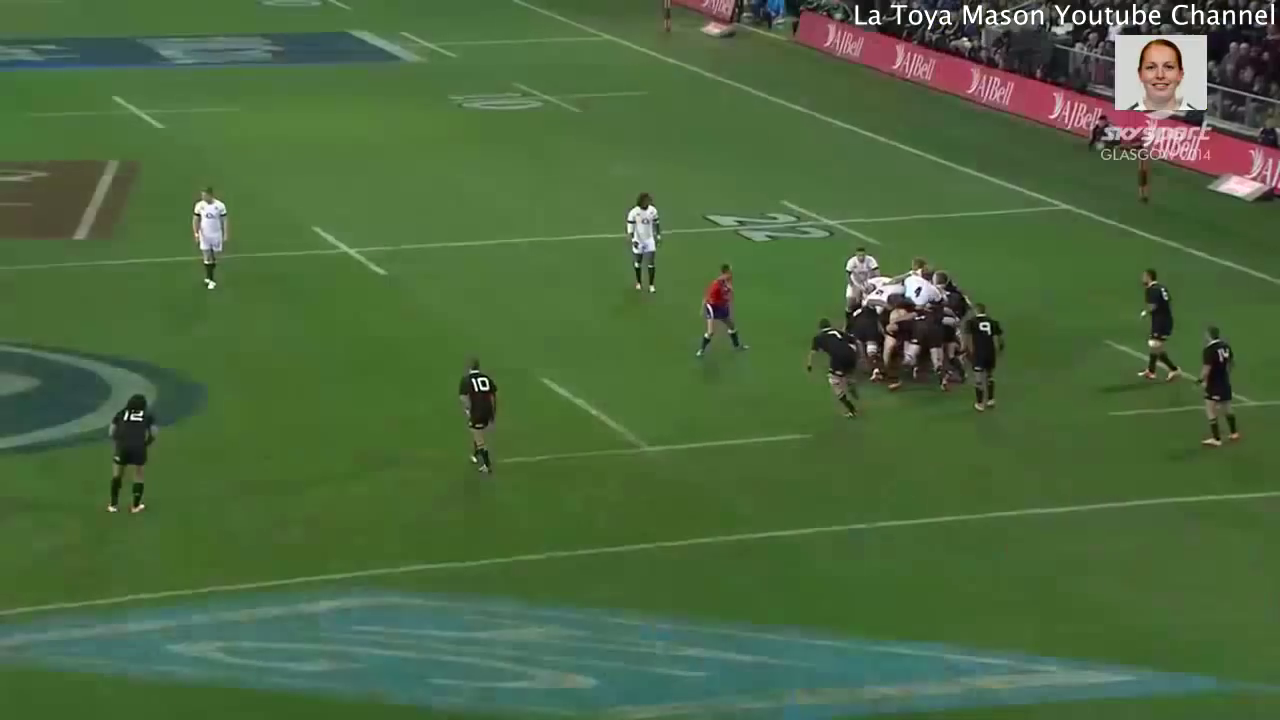10_metre: (23, 89, 262, 138), (440, 74, 658, 125)
player: (1189, 316, 1251, 455), (1126, 257, 1192, 385), (797, 311, 868, 427), (686, 254, 756, 370), (105, 385, 164, 517), (450, 342, 505, 480), (179, 180, 238, 306), (889, 309, 976, 387), (614, 180, 665, 304), (960, 297, 1006, 414), (838, 240, 884, 317), (895, 263, 939, 306), (859, 280, 903, 315), (935, 279, 975, 315)
